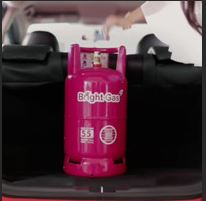bright_gas: (63, 43, 127, 175)
